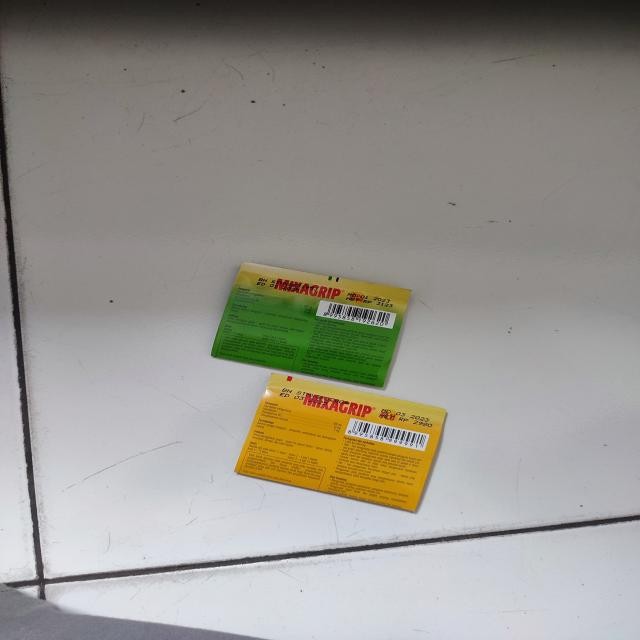B3: (234, 371, 449, 515), (208, 262, 415, 389)
